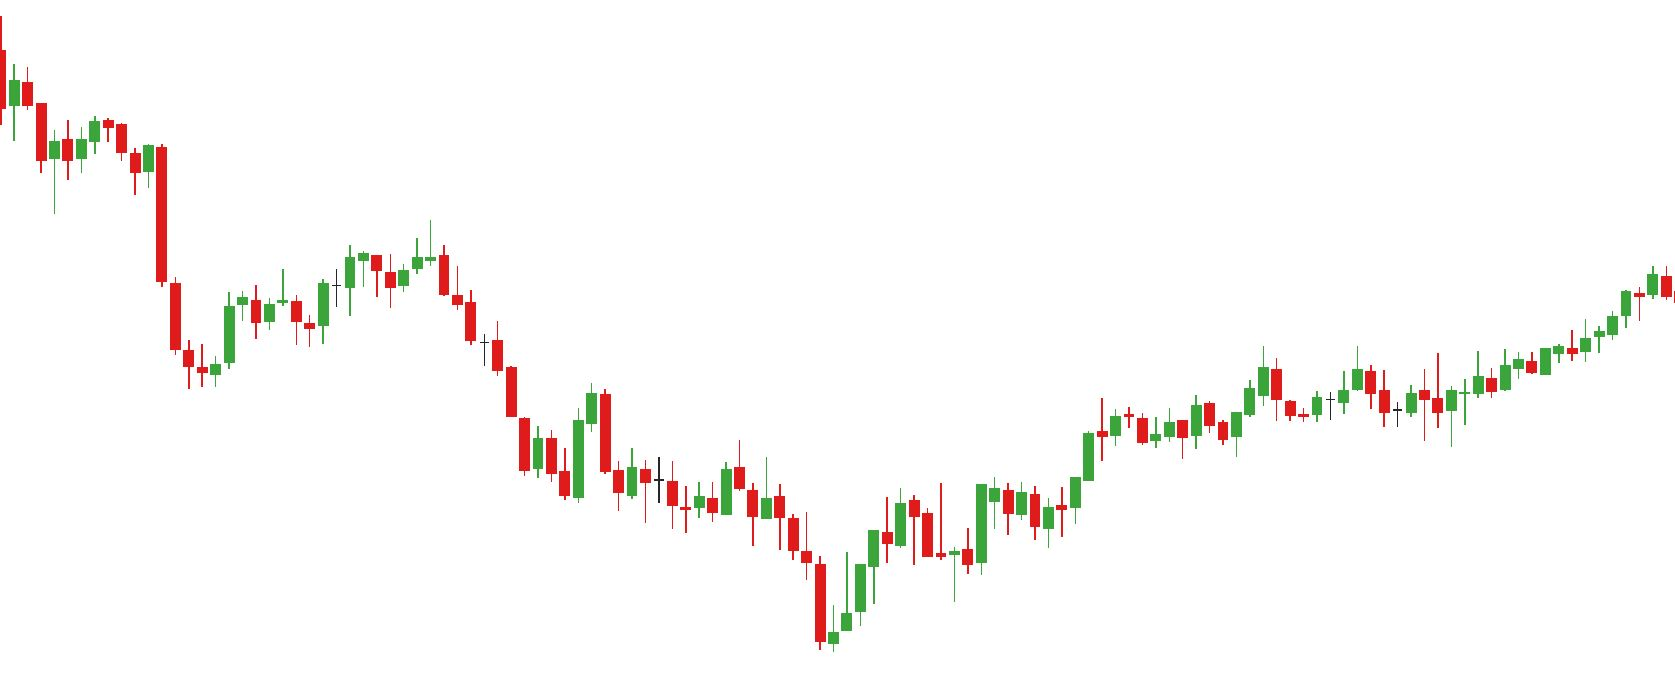sell: (341, 216, 440, 297), (654, 440, 748, 514)
